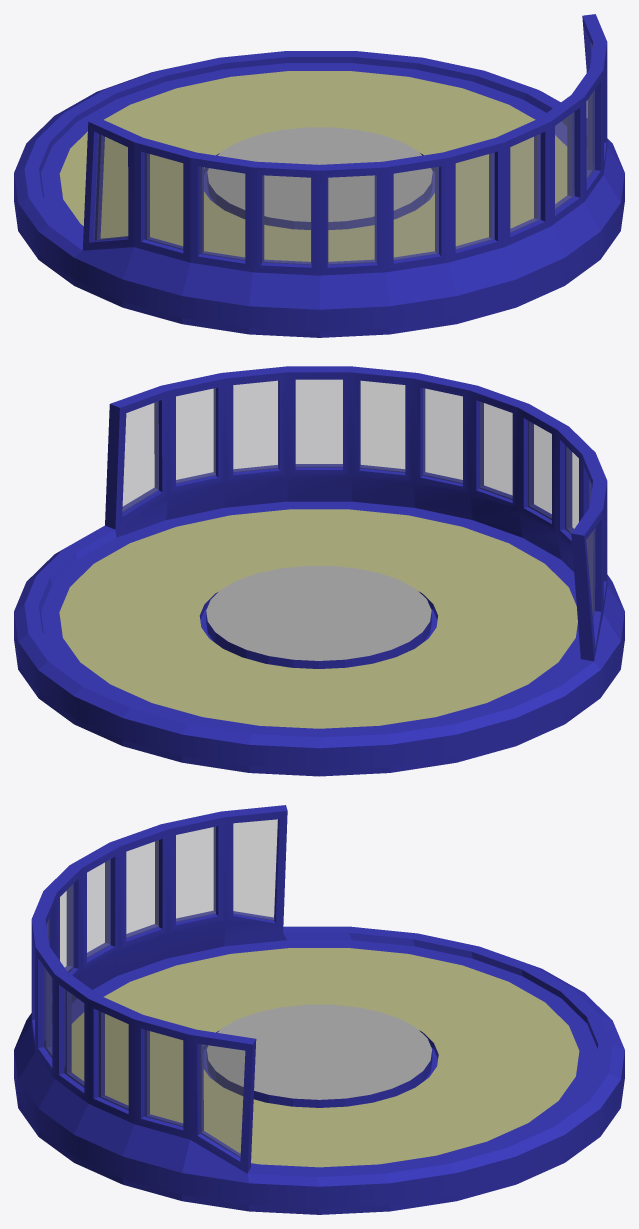
The model's file is Healing_Pad_model.fbx.
3 views of the same model, one above another, from view 1: azimuth 30°, elevation 25°; view 2: azimuth 150°, elevation 25°; view 3: azimuth 270°, elevation 25° (orthographic).
Parts seen in each view (by area): view 1: healing_pad; view 2: healing_pad; view 3: healing_pad.
Part boxes in pixels (left/top/right/bottom): healing_pad: left=14, top=14, right=624, bottom=337; healing_pad: left=14, top=366, right=624, bottom=776; healing_pad: left=14, top=805, right=624, bottom=1214.
Size of the model in its own units: 0.7532 by 0.2175 by 0.7545.
